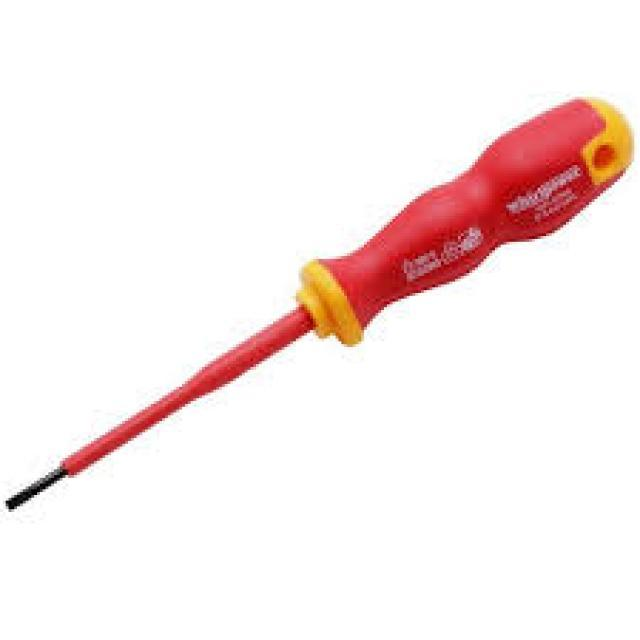screwdriver: (0, 95, 634, 516)
